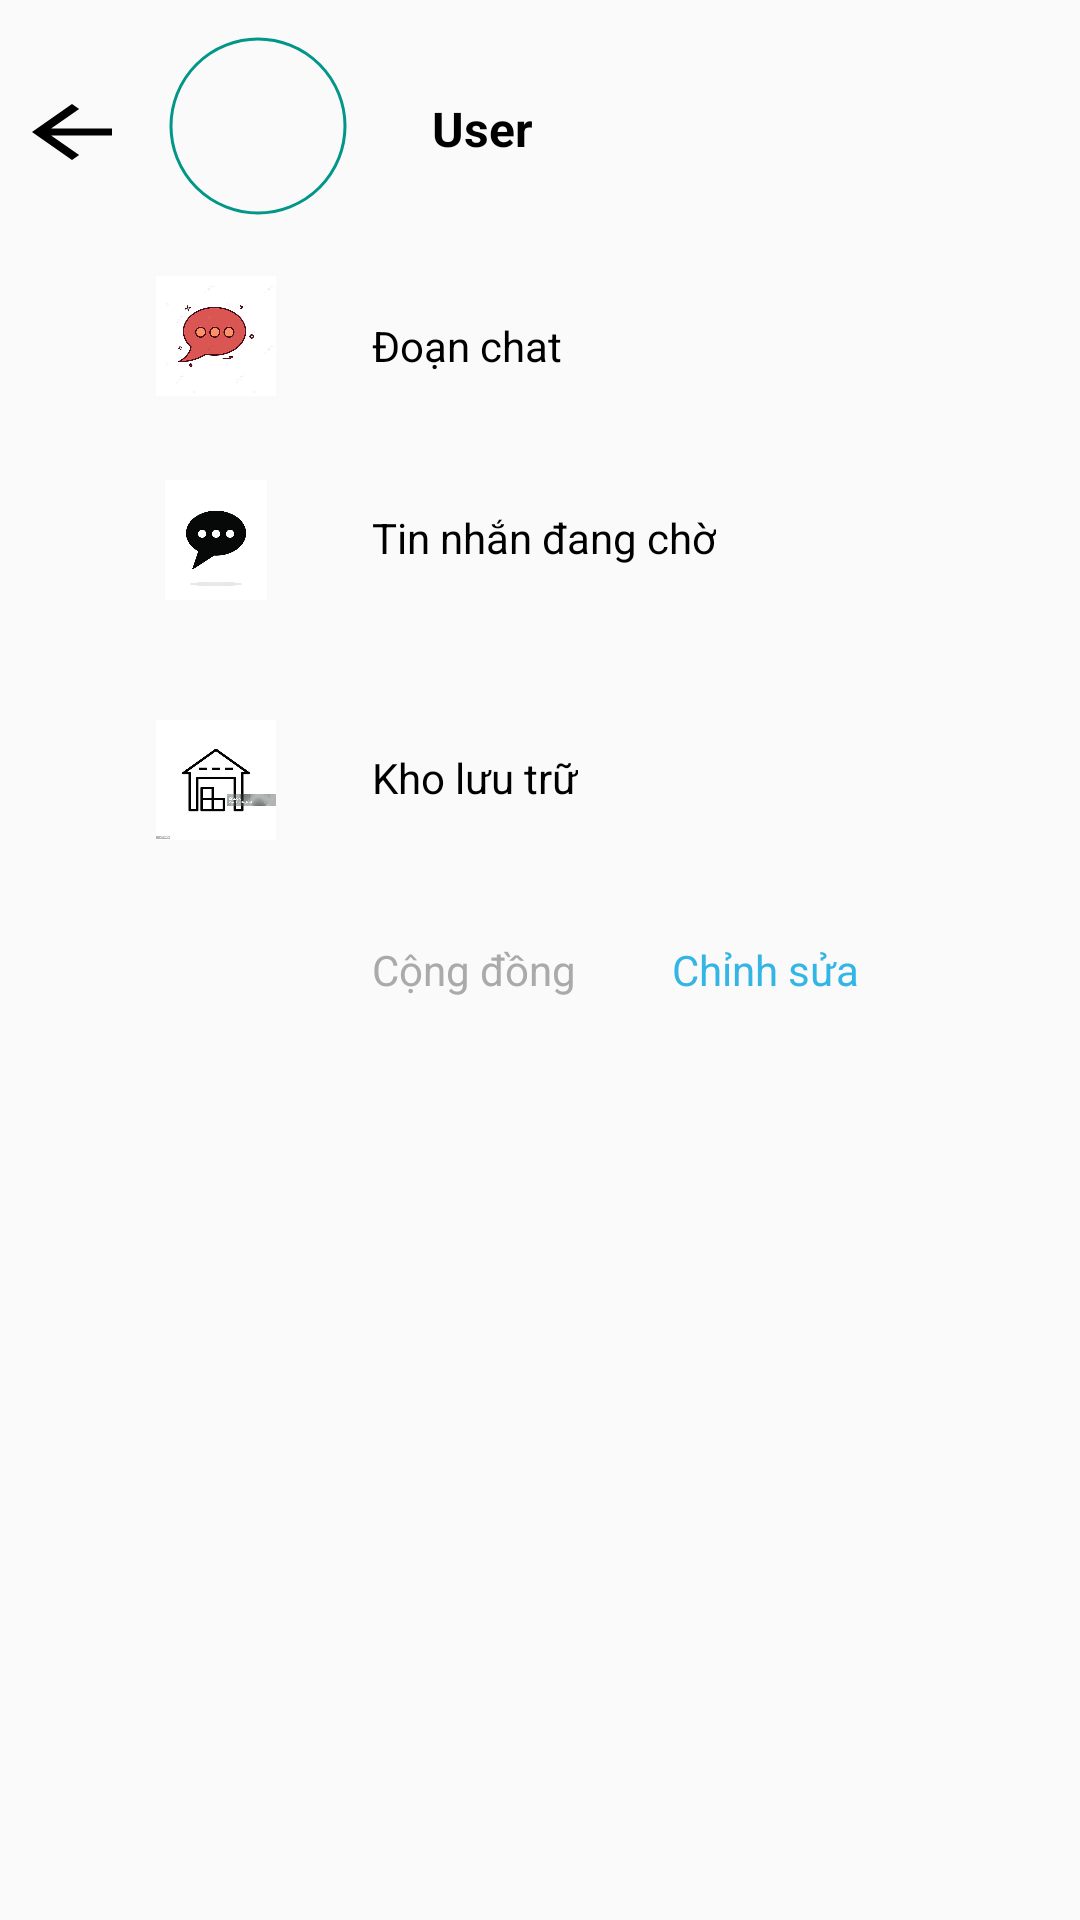

Icons on this 1080px x 1920px Android screen, each with its box as (x1, y1, x2, y2):
arrow back: (32, 104, 112, 160)
message: (186, 511, 246, 583)
warehouse: (156, 749, 276, 839)
